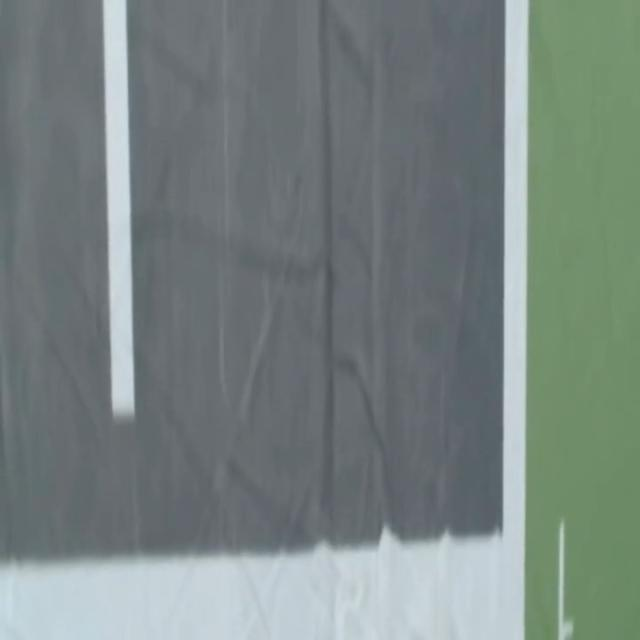center: (103, 0, 134, 420)
right: (501, 0, 531, 639)
